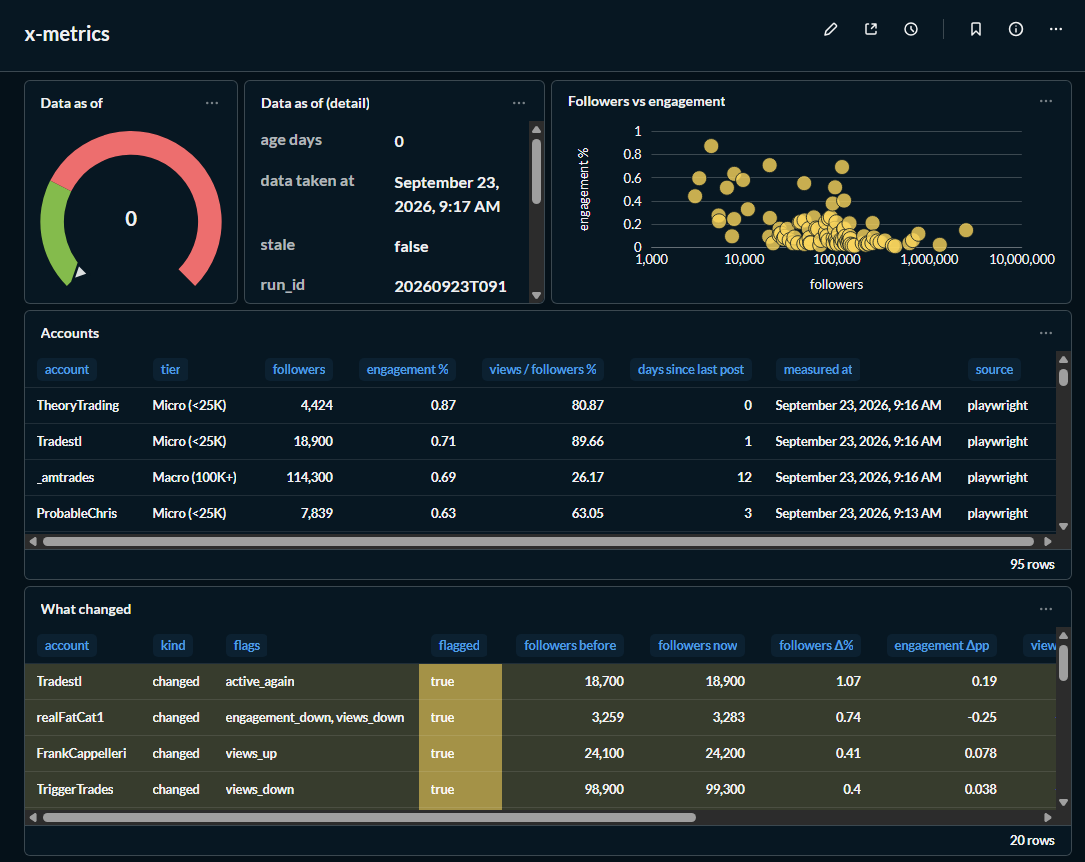

What the dashboard file says about the page in this screenshot:
{"tool":"powerbi","page":{"name":"1 페이지","canvas":[1920,1080],"ordinal":0},"visuals":[{"type":"tableEx","title":"Accounts (latest measurement, 95 accounts)","fields":{"Values":["mart v_latest.display","mart v_latest.tier","Sum(mart v_latest.followers)","Sum(mart v_latest.engagement_rate)","Sum(mart v_latest.views_to_followers)","Sum(mart v_latest.days_since_last_post)"]},"box":[10.2,404.1,1898.1,353.1],"z":0},{"type":"tableEx","title":"What changed (latest run vs each account''s previous measurement)","fields":{"Values":["mart v_changes.display","mart v_changes.kind","mart v_changes.flags","Sum(mart v_changes.followers_prev)","Sum(mart v_changes.followers_now)","Sum(mart v_changes.followers_delta_pct)","Sum(mart v_changes.engagement_delta_pp)","Sum(mart v_changes.views_delta_pct)"]},"box":[10.2,726.6,1898,353],"z":1},{"type":"scatterChart","title":"Followers vs engagement","fields":{"Category":["mart v_latest.display"],"Series":["mart v_latest.tier"],"X":["Sum(mart v_latest.followers)"],"Y":["Sum(mart v_latest.engagement_rate)"]},"box":[442.1,0,1466.3,353.1],"z":2},{"type":"cardVisual","title":"Data as of (days since the latest run; red after 8)","fields":{"Data":["mart v_runs.Age days"]},"box":[10,0,432,353],"z":3}]}

Visuals, with their boxes on the page's 1920x1080 design canvas (x1, y1, x2, y2). These are canvas units, not pixel positions in the 1085x862 screenshot, which may show the page scaled, cropped or inside an application window:
"Accounts (latest measurement, 95 accounts)" tableEx: x1=10, y1=404, x2=1908, y2=757
"What changed (latest run vs each account''s previous measurement)" tableEx: x1=10, y1=727, x2=1908, y2=1080
"Followers vs engagement" scatterChart: x1=442, y1=0, x2=1908, y2=353
"Data as of (days since the latest run; red after 8)" cardVisual: x1=10, y1=0, x2=442, y2=353
